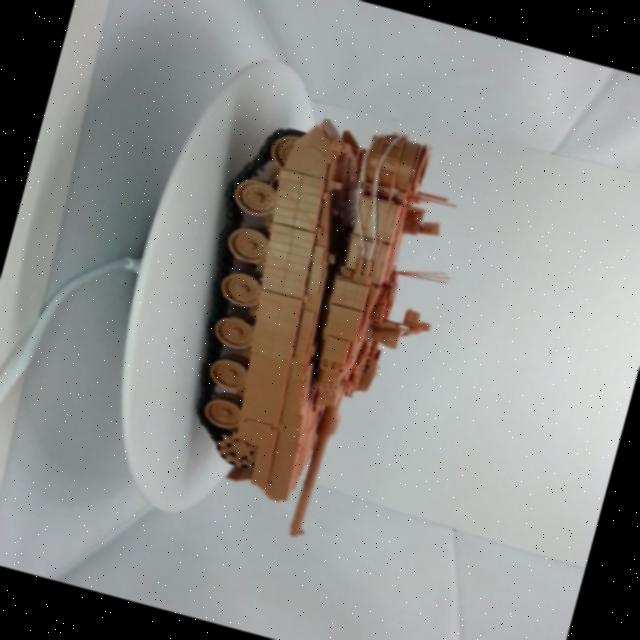korea tank: (127, 70, 502, 594)
